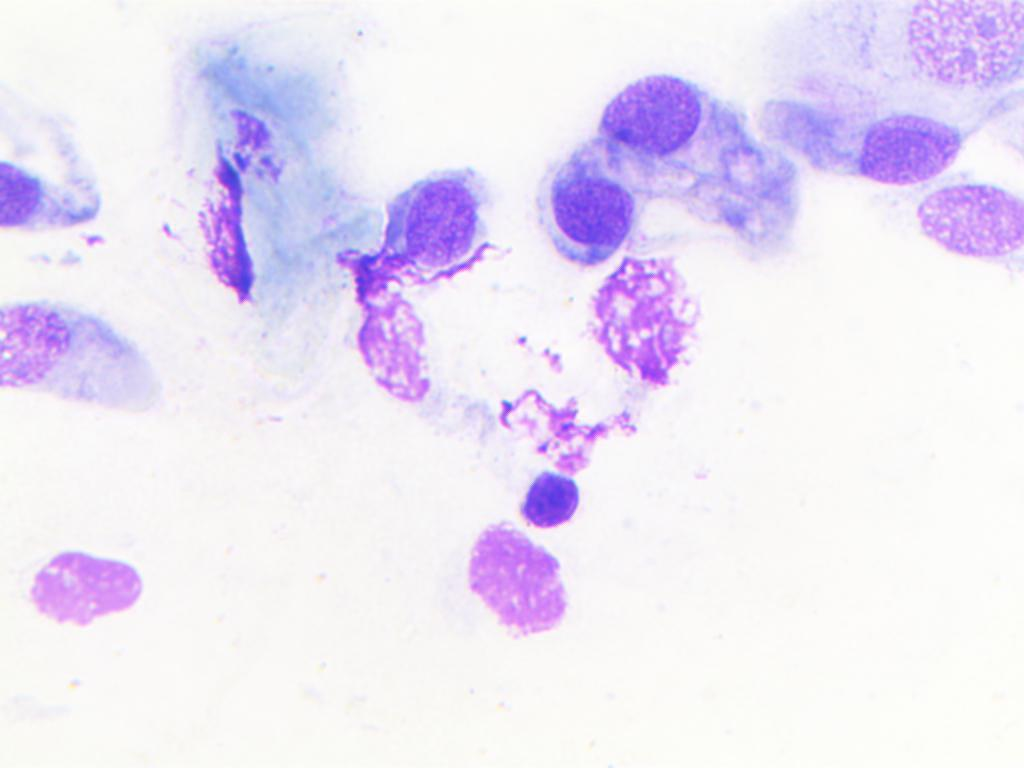epithelial: (456, 502, 579, 658), (20, 528, 183, 642), (903, 2, 1024, 100), (386, 162, 489, 276), (844, 103, 971, 187), (903, 177, 1021, 264), (533, 161, 635, 261), (0, 299, 70, 394), (506, 460, 588, 537), (0, 153, 47, 233)
goblet_cell: (601, 76, 813, 205)
